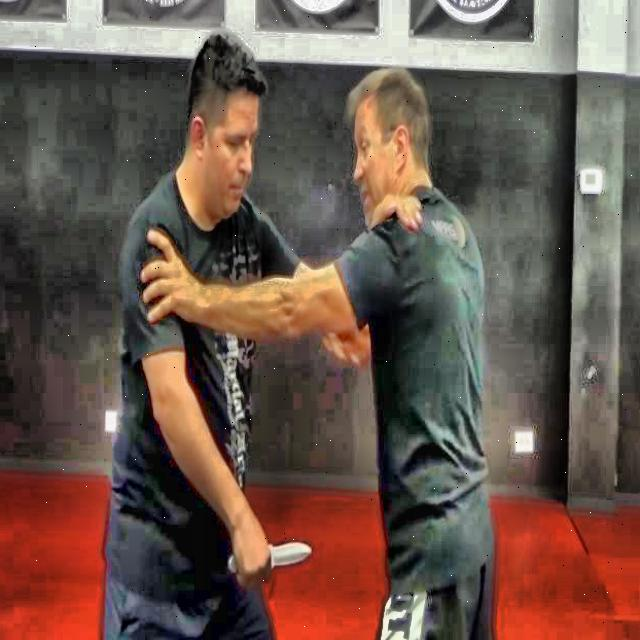knife: (228, 542, 314, 572)
